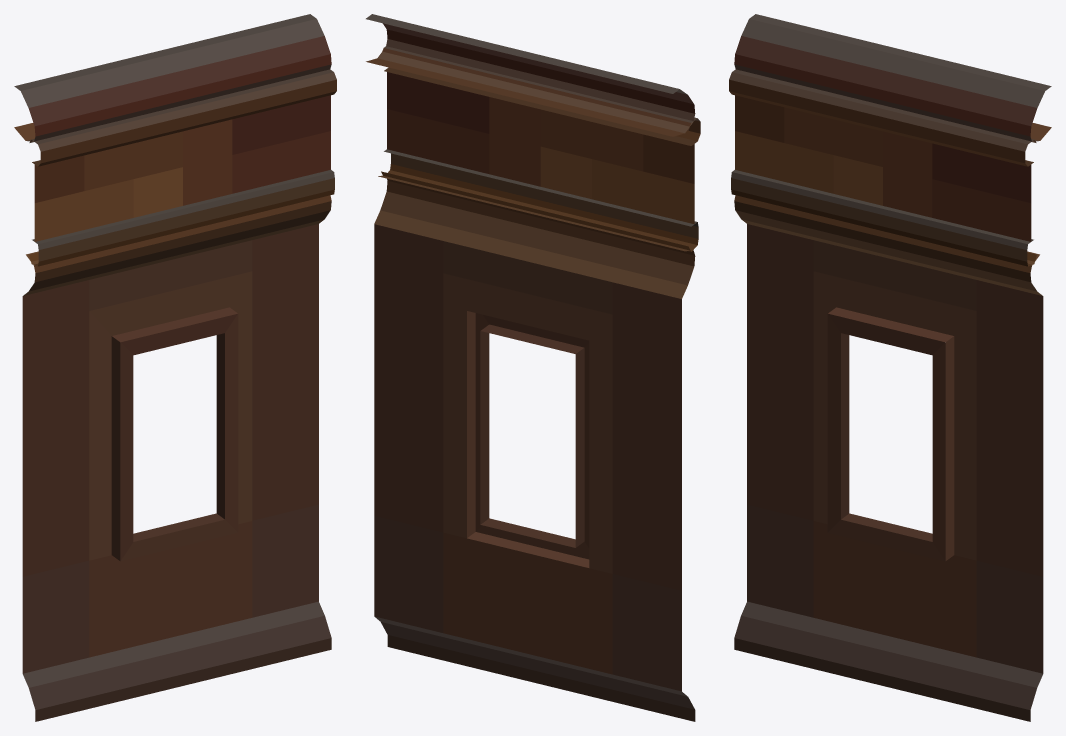
File: Wall_HomeA-PanelF-2m.fbx
3 renders of one model, left to right at view 1: azimuth 30°, elevation 25°; view 2: azimuth 150°, elevation 25°; view 3: azimuth 330°, elevation 25°, orthographic. The views are drawn at different scales.
Parts seen in each view (by area): view 1: Wall_HomeA-PanelF-2m; view 2: Wall_HomeA-PanelF-2m; view 3: Wall_HomeA-PanelF-2m.
Boxes of the visible parts, x1,y1,x2,y2 form: Wall_HomeA-PanelF-2m: (14, 14, 336, 721); Wall_HomeA-PanelF-2m: (366, 14, 700, 721); Wall_HomeA-PanelF-2m: (729, 14, 1051, 721).
Size of the model in its own units: 200 by 400 by 31.15.
